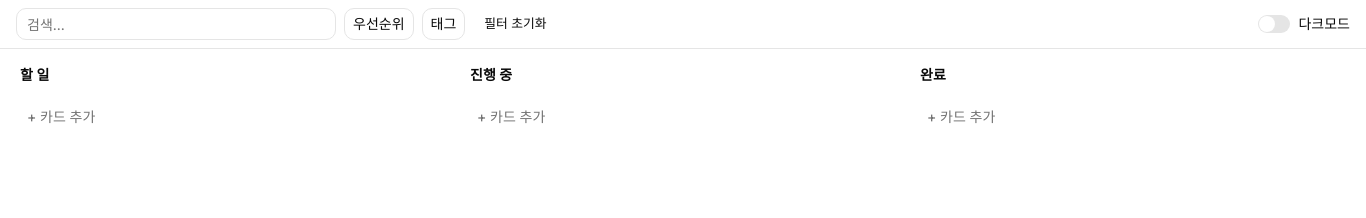
Test: KANBAN-002: 카드 추가 - 제목 빈 값 검증 › 빈 제목으로 확인 시 오류 메시지가 표시되고 카드는 추가되지 않는다
Step 1. Click the button "+ 카드 추가" below "할 일" → (61, 116), box [16,101,450,133]
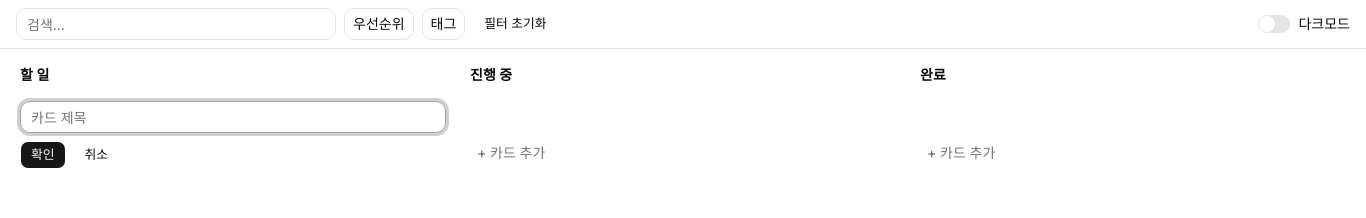
Step 2. Click the button "확인" → (43, 155), box [20,141,66,169]
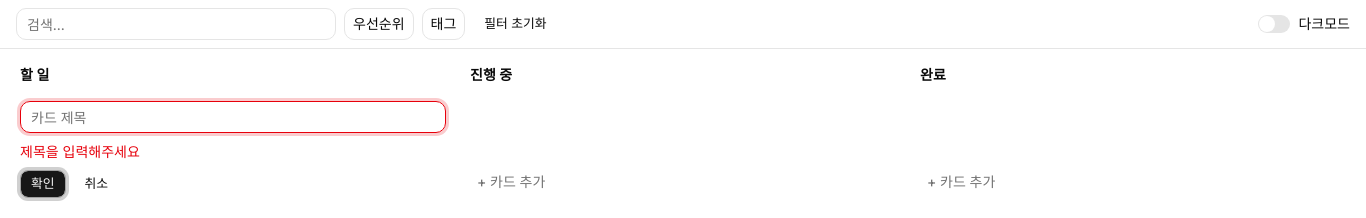
Expected: the text "제목을 입력해주세요" is shown, [20,143,140,160]
